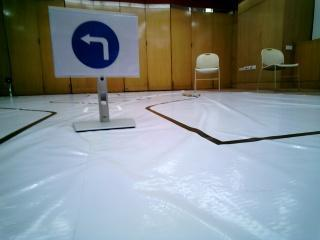left: (58, 14, 133, 83)
